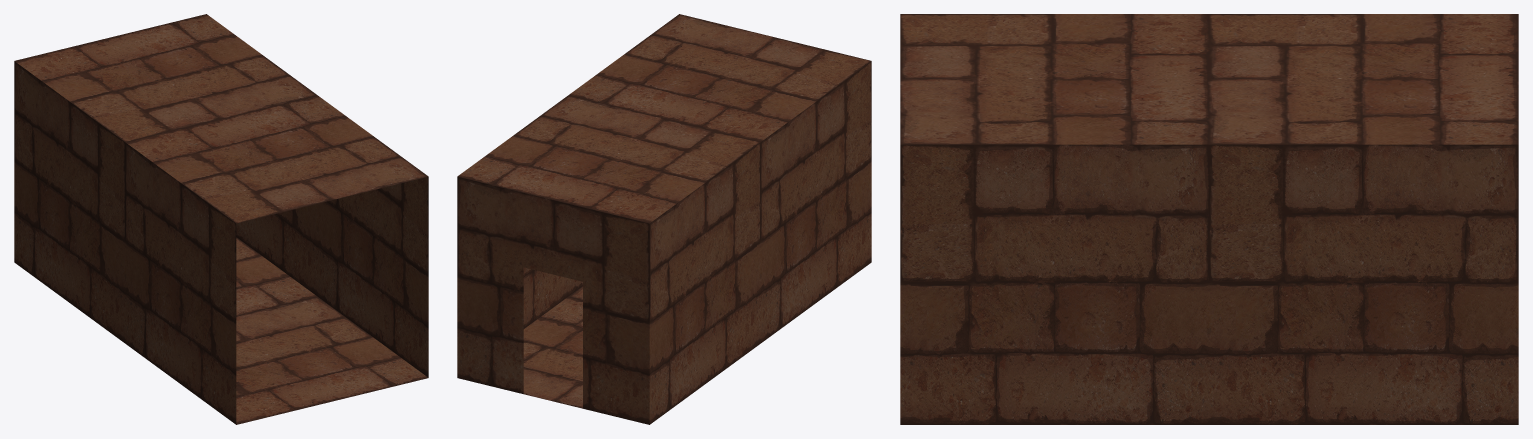
File: Corridor_OutsideEntrance_1x2.FBX
3 renders of one model, left to right at view 1: azimuth 30°, elevation 25°; view 2: azimuth 150°, elevation 25°; view 3: azimuth 270°, elevation 25°, orthographic. The views are drawn at different scales.
Visible parts, largest first — view 1: Corridor_OutsideEntrance_1x2; view 2: Corridor_OutsideEntrance_1x2; view 3: Corridor_OutsideEntrance_1x2.
Part boxes in pixels (box(x1,y1,x2,y2)): Corridor_OutsideEntrance_1x2: box(14, 14, 428, 424); Corridor_OutsideEntrance_1x2: box(457, 14, 871, 424); Corridor_OutsideEntrance_1x2: box(900, 14, 1518, 424).
Bounding box in the file's own units: 66.08 × 66.08 × 132.
